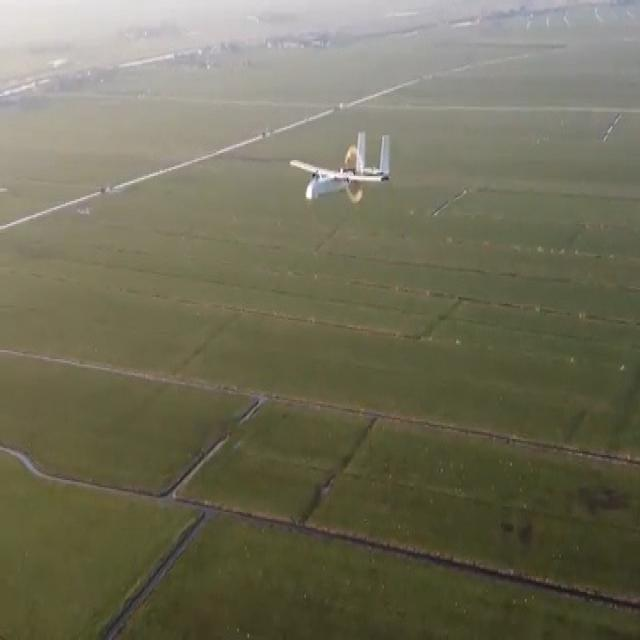drones: (292, 128, 396, 210)
